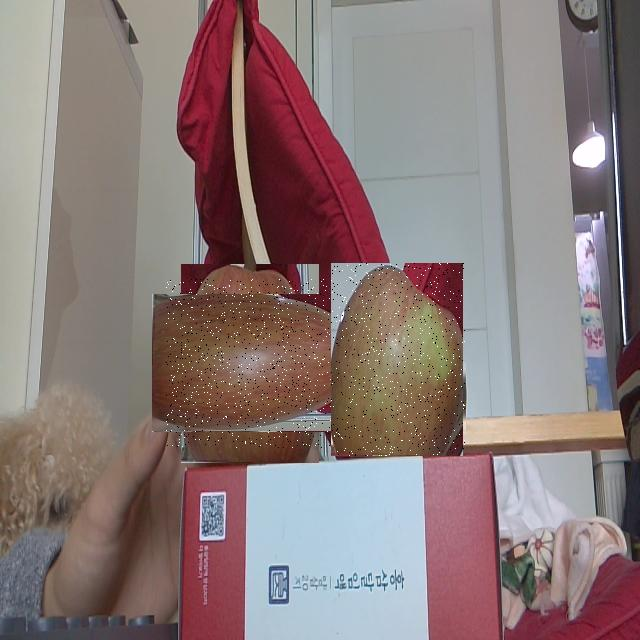apple: (166, 279, 335, 448), (332, 263, 466, 456)
